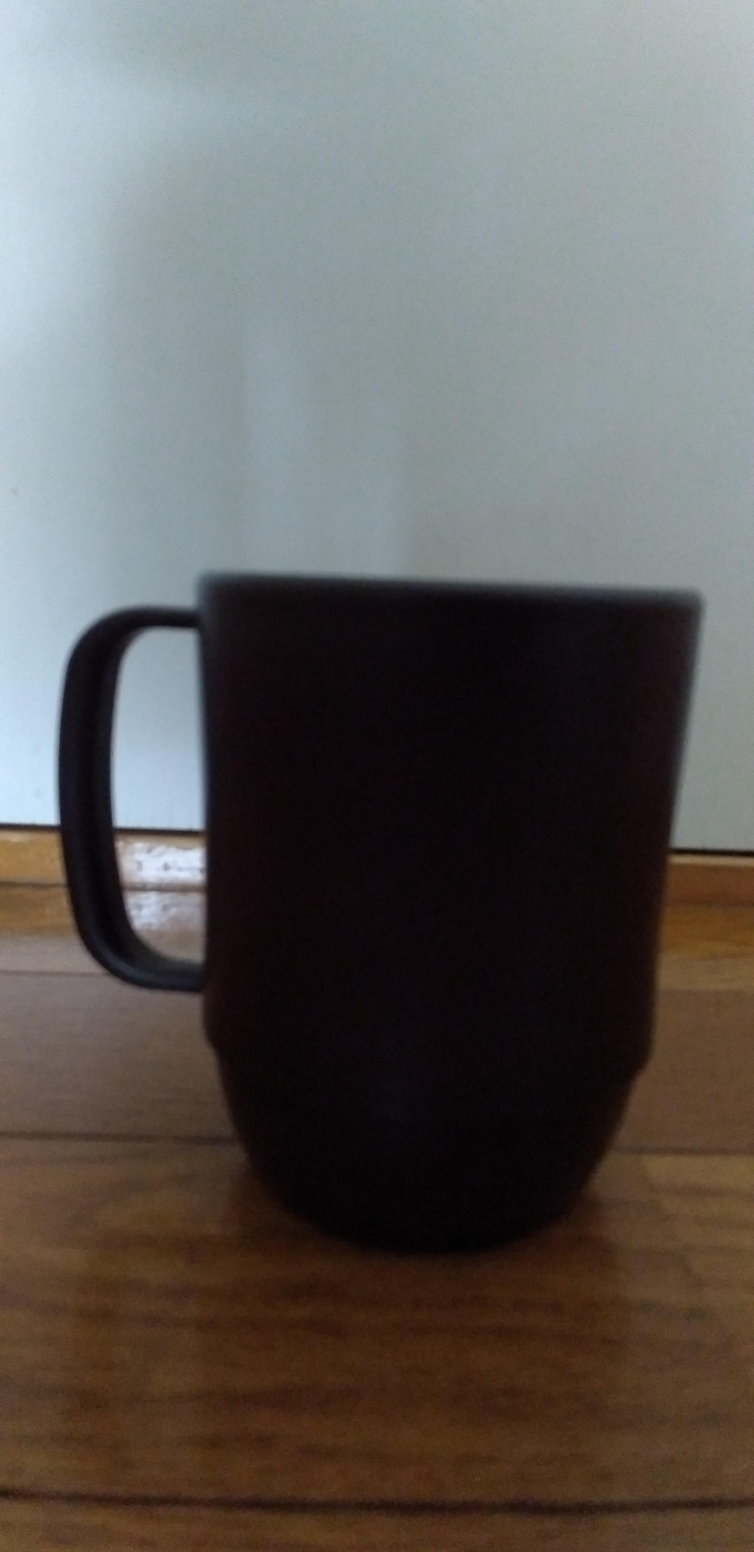mug-real100-3d100: (59, 576, 701, 1252)
